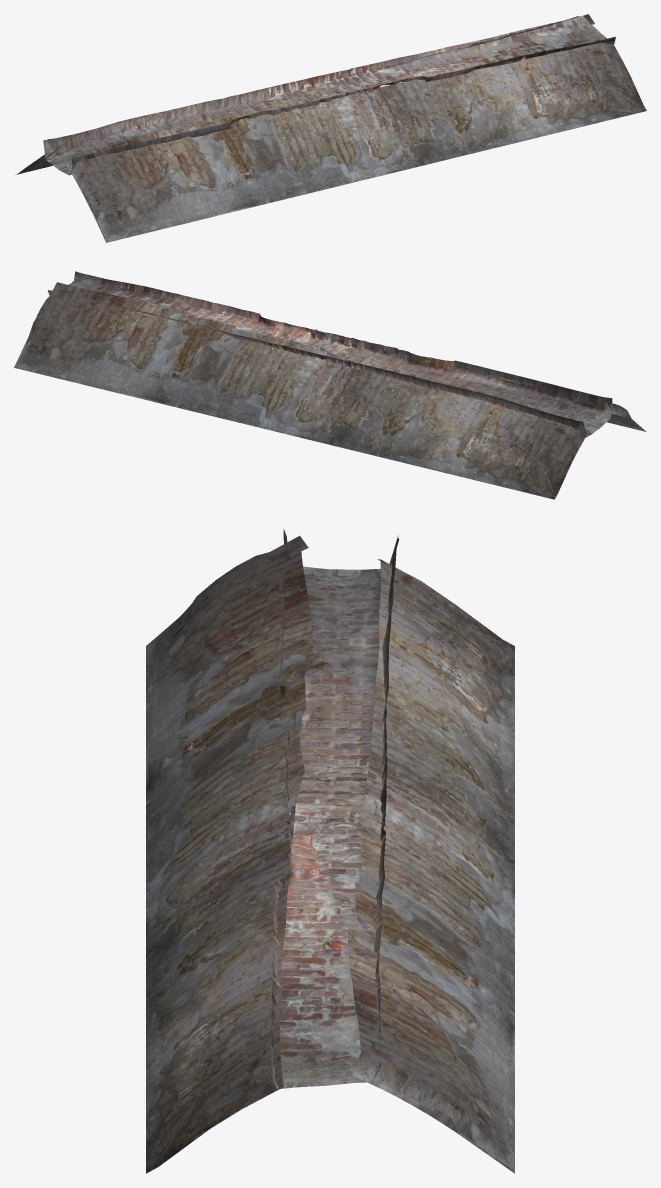
Rendered from SM_CryptCeiling_01_03.fbx.
3 views of the same model, one above another, from view 1: azimuth 30°, elevation 25°; view 2: azimuth 150°, elevation 25°; view 3: azimuth 270°, elevation 25° (orthographic). The views are drawn at different scales.
Visible parts, largest first — view 1: sm_CryptCeiling_01_03_LOD0; view 2: sm_CryptCeiling_01_03_LOD0; view 3: sm_CryptCeiling_01_03_LOD0.
Part boxes in pixels (x1=…): sm_CryptCeiling_01_03_LOD0: x1=15, y1=14, x2=646, y2=242; sm_CryptCeiling_01_03_LOD0: x1=14, y1=271, x2=646, y2=499; sm_CryptCeiling_01_03_LOD0: x1=146, y1=529, x2=514, y2=1173.
Size of the model in its own units: 210 by 710 by 78.15.
